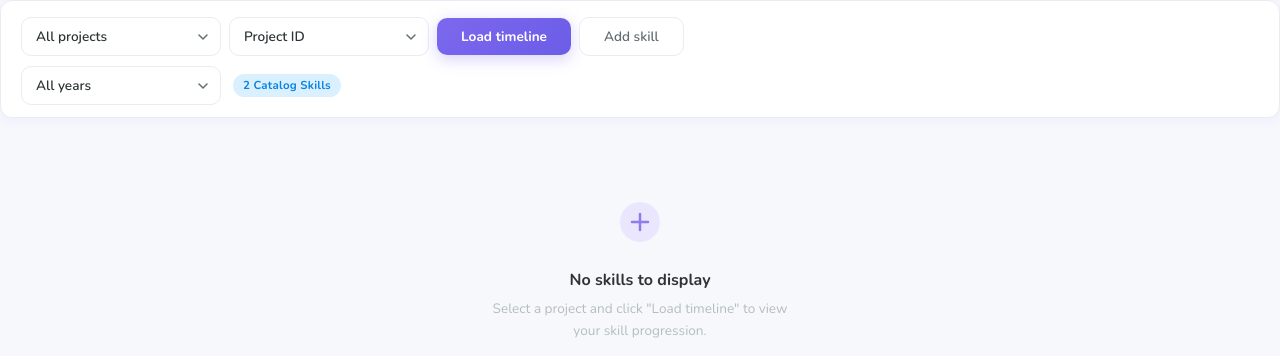
Test case: SkillsTimeline › uses skills/year when All projects + specific year is selected
This screenshot has width=1280, height=356.
Expected: the dropdown named "Project selector" is shown, [21, 17, 221, 56]
Expected: the button "Load timeline" is enabled, [437, 18, 571, 55]
Select "2026" in the dropdown named "Year filter". click: (121,86)
box: [21, 66, 221, 105]
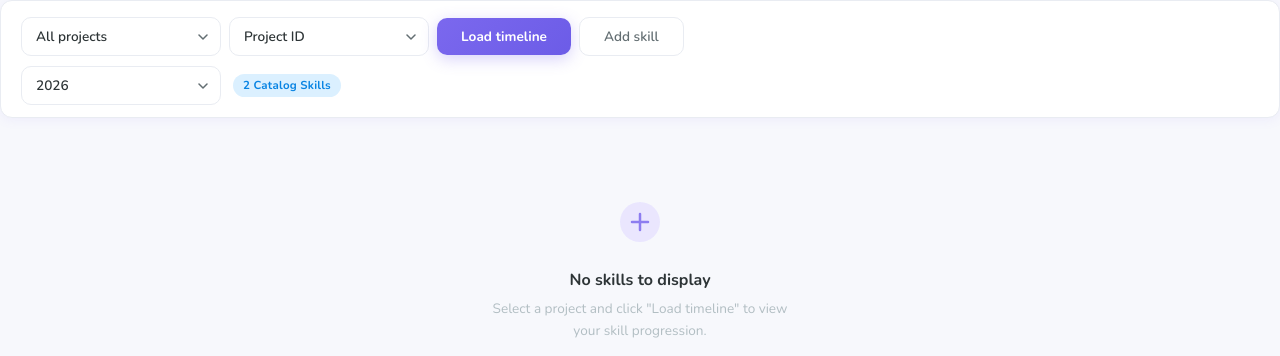
Click the button "Load timeline". click: (504,36)
box: [437, 18, 571, 55]
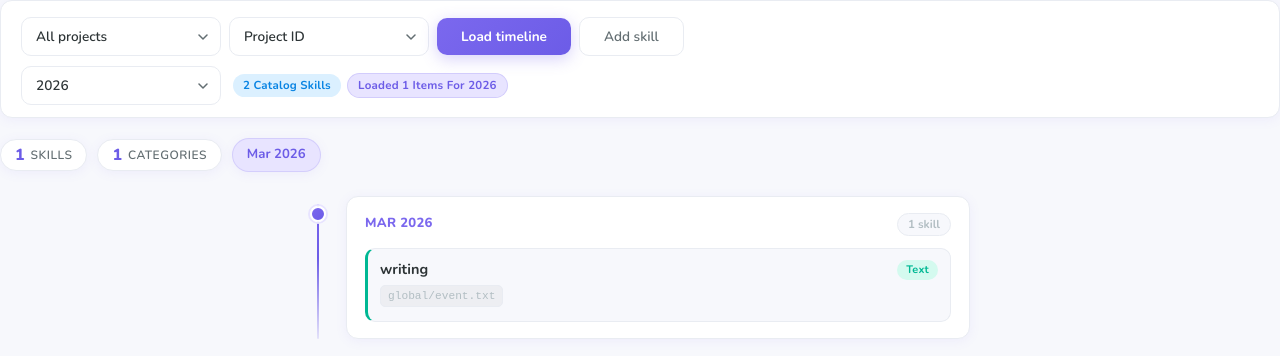
Result: the heading "writing" is shown at [380, 259, 428, 279]
